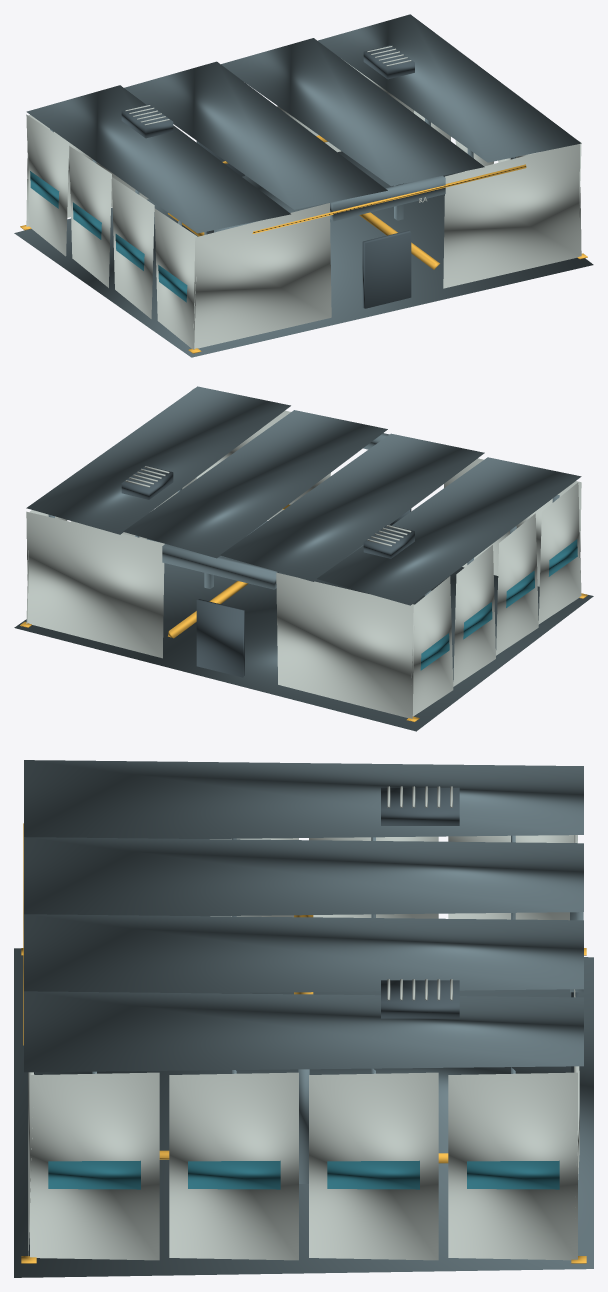
File: armory.glb
The picture shows the model from 3 angles, top to bottom: view 1: azimuth 30°, elevation 25°; view 2: azimuth 150°, elevation 25°; view 3: azimuth 270°, elevation 25°; orthographic projection. The views are drawn at different scales.
Parts seen in each view (by area): view 1: Removable roof segment.042, Removable roof segment.041, End bulkhead.056, End bulkhead.057, Foundation.024, Removable roof segment.040, Removable roof segment.043, Side pressure panel.094, Side pressure panel.093, Side pressure panel.095, Side pressure panel.092, Sealed airlock.016 (+10 smaller); view 2: Removable roof segment.042, Removable roof segment.041, End bulkhead.059, End bulkhead.058, Removable roof segment.040, Removable roof segment.043, Foundation.024, Side pressure panel.093, Side pressure panel.092, Side pressure panel.094, Side pressure panel.095, Sealed airlock.017 (+10 smaller); view 3: Removable roof segment.041, Removable roof segment.042, Removable roof segment.043, Removable roof segment.040, Foundation.024, Side pressure panel.096, Side pressure panel.098, Side pressure panel.097, Side pressure panel.099, Roof heat exchanger.021, Roof heat exchanger.020, Observation glass.084 (+6 smaller).
Part boxes in pixels (x1,y1,x2,y2): Removable roof segment.042: (221, 38, 484, 186); Removable roof segment.041: (124, 61, 387, 209); End bulkhead.056: (193, 203, 331, 348); End bulkhead.057: (443, 144, 581, 288); Foundation.024: (14, 151, 593, 357); Removable roof segment.040: (26, 85, 290, 233); Removable roof segment.043: (318, 14, 581, 162); Side pressure panel.094: (69, 146, 111, 287); Side pressure panel.093: (112, 177, 154, 318); Side pressure panel.095: (26, 114, 69, 256); Side pressure panel.092: (154, 208, 197, 349); Sealed airlock.016: (362, 230, 411, 308); Removable roof segment.042: (123, 410, 387, 558); Removable roof segment.041: (220, 433, 484, 581); End bulkhead.059: (26, 511, 164, 658); End bulkhead.058: (276, 572, 414, 718); Removable roof segment.040: (317, 457, 581, 605); Removable roof segment.043: (26, 386, 290, 534); Foundation.024: (14, 521, 593, 731); Side pressure panel.093: (496, 513, 538, 655); Side pressure panel.092: (538, 482, 581, 624); Side pressure panel.094: (453, 545, 495, 686); Side pressure panel.095: (411, 576, 453, 716); Sealed airlock.017: (196, 599, 244, 677); Removable roof segment.041: (24, 837, 583, 916); Removable roof segment.042: (24, 914, 583, 993); Removable roof segment.043: (24, 991, 583, 1072); Removable roof segment.040: (24, 760, 583, 838); Foundation.024: (14, 948, 593, 1277); Side pressure panel.096: (30, 1072, 159, 1260); Side pressure panel.098: (309, 1072, 438, 1260); Side pressure panel.097: (169, 1072, 298, 1260); Side pressure panel.099: (448, 1072, 577, 1260); Roof heat exchanger.021: (381, 980, 459, 1018); Roof heat exchanger.020: (381, 787, 459, 825); Observation glass.084: (48, 1160, 140, 1189).
Size of the model in its own units: 16.97 by 5.56 by 12.97.
